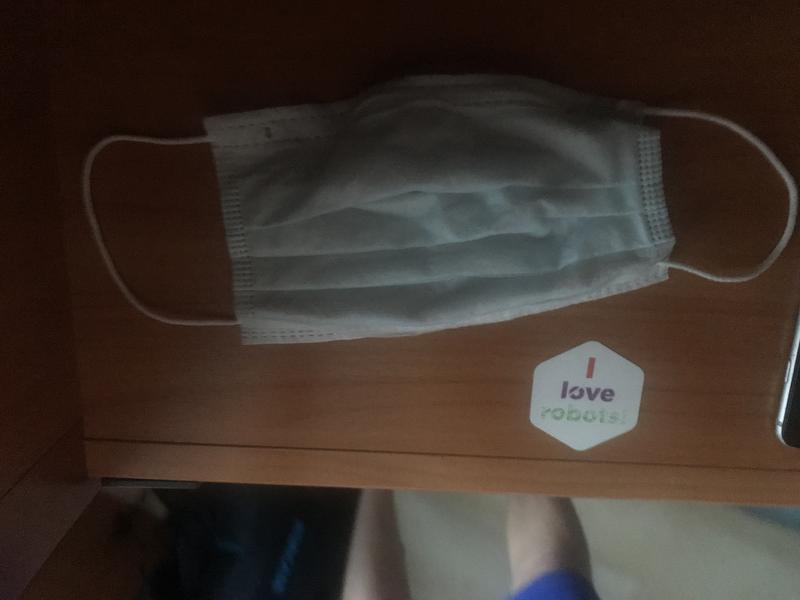medical_mask: (83, 76, 796, 345)
